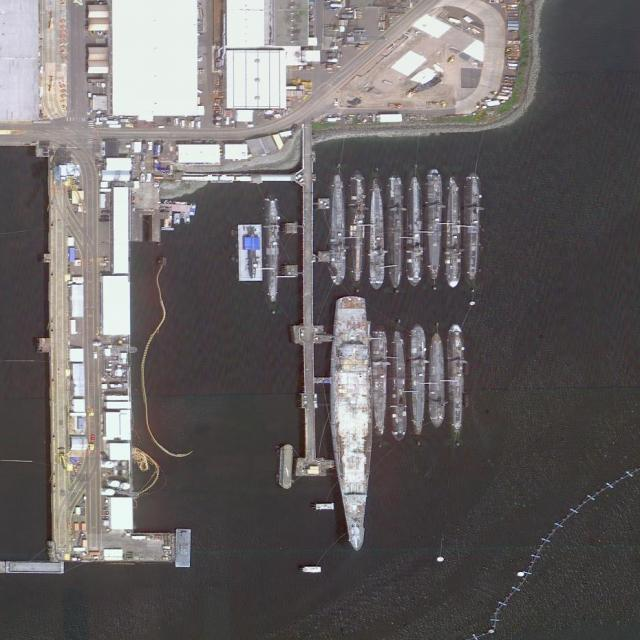Dock: (50, 174, 132, 560), (285, 169, 331, 476)
Other Ship: (301, 566, 322, 573)
Submarine: (388, 332, 407, 440), (462, 173, 480, 279), (262, 200, 279, 301), (330, 174, 344, 285), (370, 180, 384, 290), (427, 171, 441, 279), (449, 326, 463, 432), (389, 173, 402, 286), (351, 170, 364, 279), (408, 178, 421, 286), (372, 332, 385, 436), (447, 178, 459, 287), (412, 326, 424, 435), (430, 334, 443, 428), (249, 232, 255, 278)
